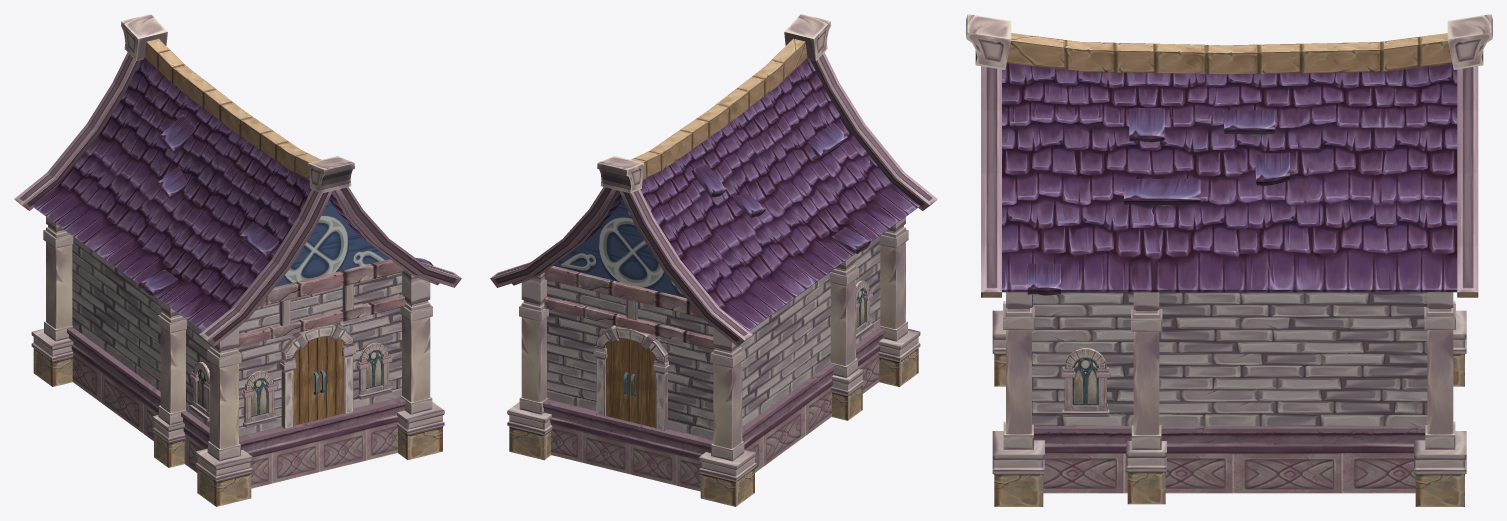
The model's file is fangzi02.fbx.
3 views of the same model, side by side, from view 1: azimuth 30°, elevation 25°; view 2: azimuth 150°, elevation 25°; view 3: azimuth 270°, elevation 25° (orthographic). The views are drawn at different scales.
Parts seen in each view (by area): view 1: 对象007; view 2: 对象007; view 3: 对象007.
Part boxes in pixels (x1,y1,x2,y2): 对象007: [14, 14, 461, 506]; 对象007: [490, 14, 937, 506]; 对象007: [966, 14, 1492, 506].
Bounding box in the file's own units: 84.08 × 101 × 117.
Materials: 1 (1 with a texture image).
